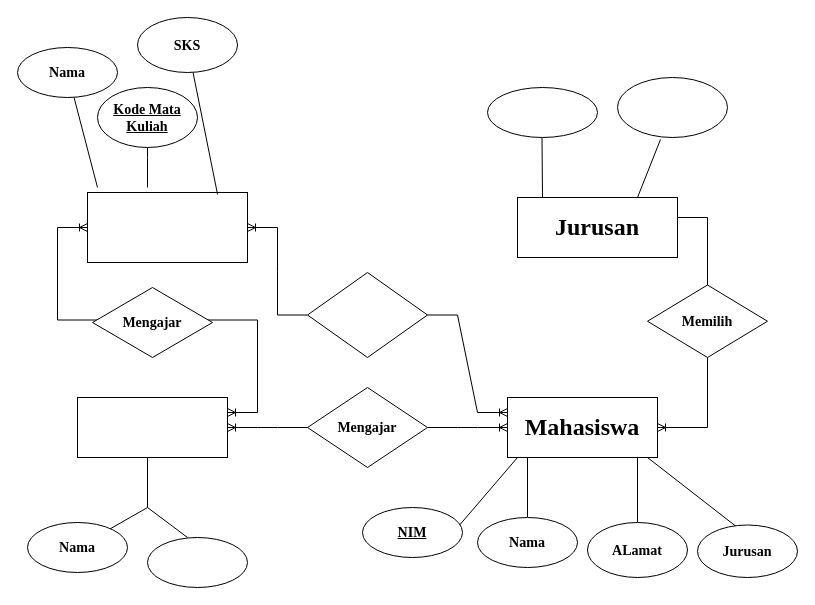
Image size: 815x605. Some labels were removed from this diagram. Here are the shapes that lost their labels. From the top down, the centre of each, then its label:
At pixel 542 112: "Nama Jurusan".
At pixel 672 107: "Kode Jurusan".
At pixel 167 227: "Mata Kuliah".
At pixel 367 315: "Ambil".
At pixel 152 427: "Dosen".
At pixel 197 562: "ID Dosen".
